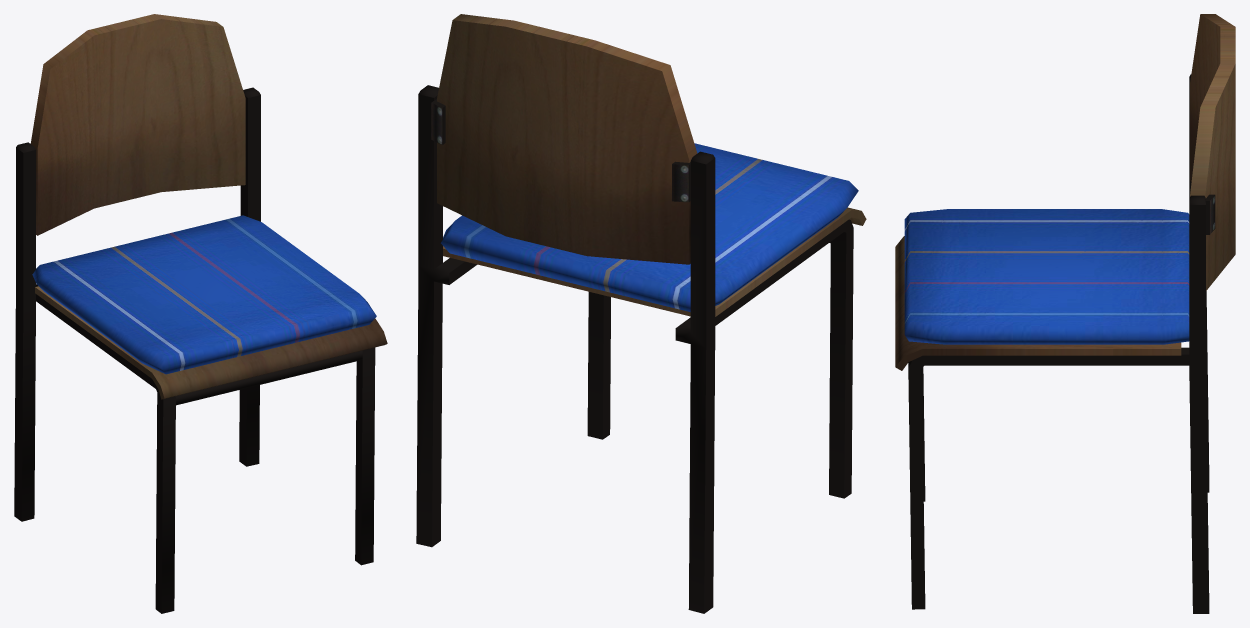
Rendered from chair_3.obj.
The picture shows the model from 3 angles, left to right: view 1: azimuth 30°, elevation 25°; view 2: azimuth 150°, elevation 25°; view 3: azimuth 270°, elevation 25°; orthographic projection. The views are drawn at different scales.
Parts seen in each view (by area): view 1: chair_3; view 2: chair_3; view 3: chair_3.
Boxes of the visible parts, <box> form: chair_3: <box>14,14,387,613</box>; chair_3: <box>416,14,866,613</box>; chair_3: <box>895,14,1235,613</box>.
Size of the model in its own units: 0.7808 by 1.44 by 0.8764.
